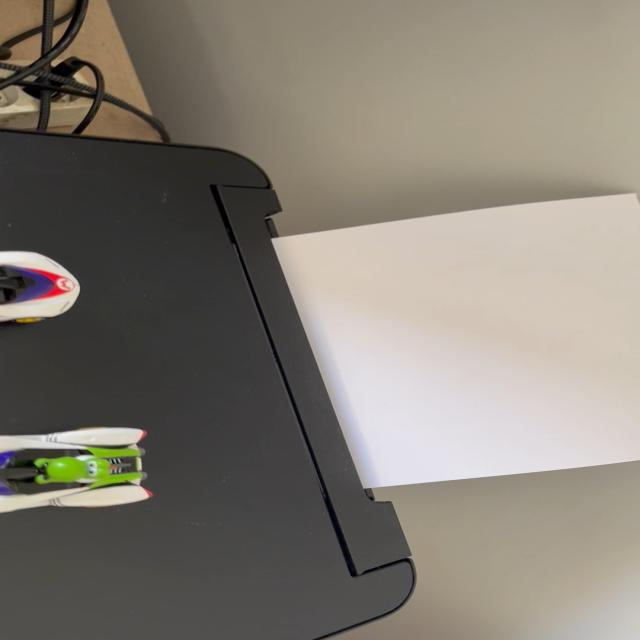mario: (2, 241, 102, 340)
yoshi: (1, 421, 172, 531)
